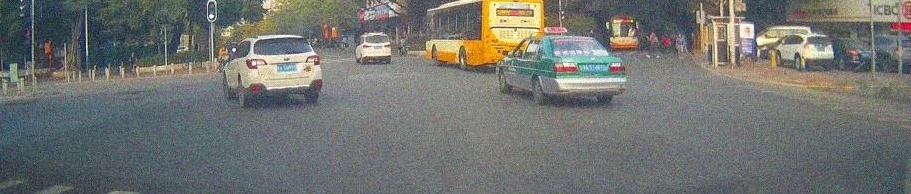L_light: (553, 62, 579, 73), (246, 58, 268, 69), (363, 44, 372, 48)
R_light: (305, 54, 321, 65), (609, 62, 625, 72), (384, 44, 391, 47)
T_light: (572, 38, 582, 41), (279, 38, 291, 40), (374, 35, 381, 36)
day-left: (244, 34, 323, 102)
day-no: (547, 34, 627, 101), (362, 32, 391, 63)
